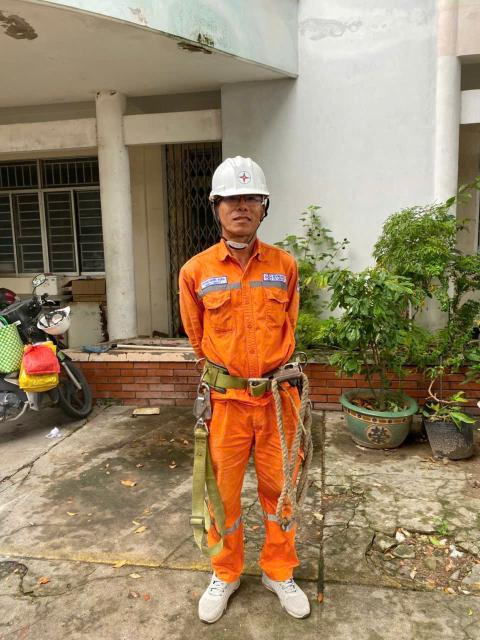harness: (184, 352, 319, 399)
helmet: (203, 157, 275, 203)
shoes: (253, 557, 323, 632), (195, 546, 241, 629)
